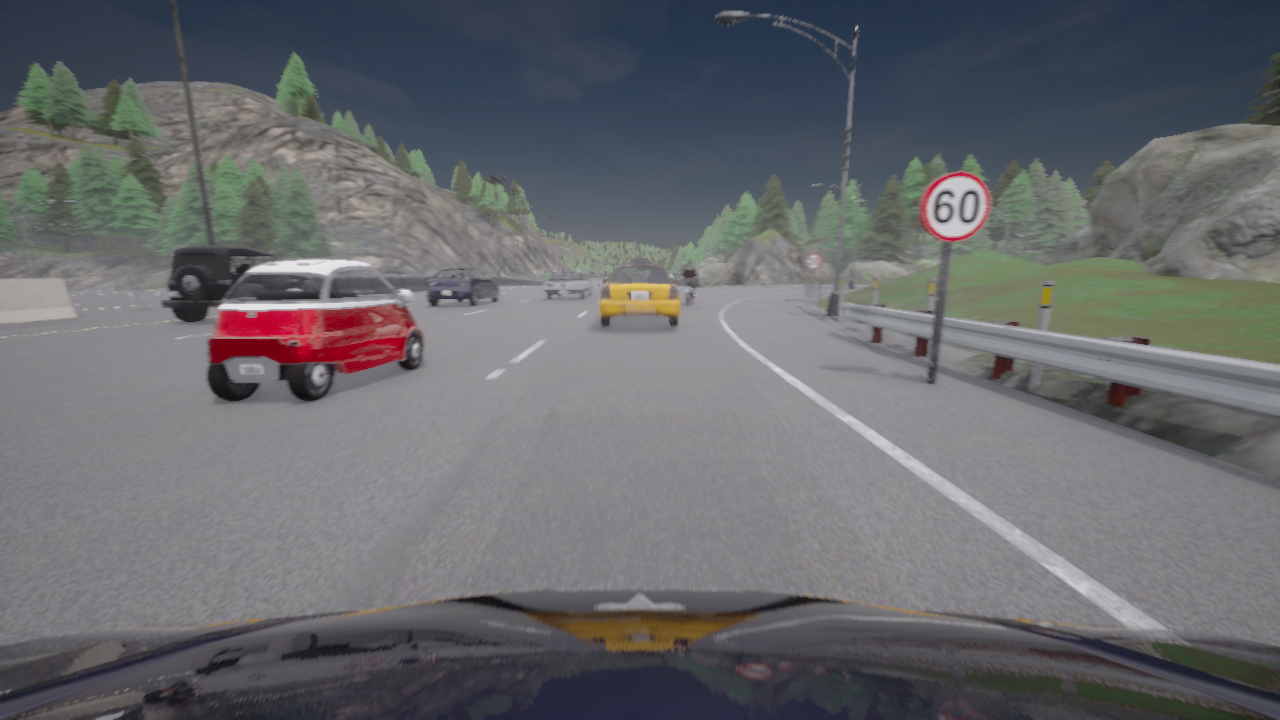cyclist: (0, 588, 1279, 719), (206, 258, 423, 400), (162, 246, 277, 321), (599, 259, 679, 326), (428, 267, 500, 306), (543, 272, 591, 299), (686, 285, 692, 304)
